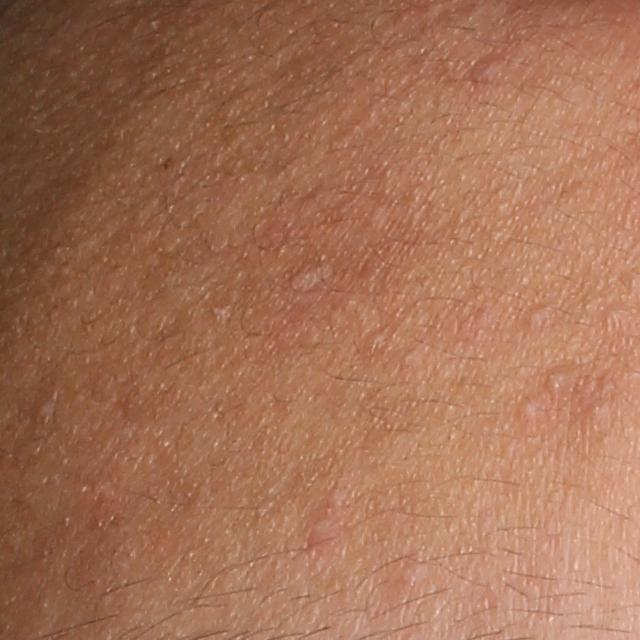comedo: (516, 394, 549, 430), (539, 370, 572, 397), (523, 304, 554, 332), (582, 399, 614, 426), (597, 304, 632, 328), (31, 391, 58, 422), (398, 562, 430, 587), (362, 328, 385, 353)
